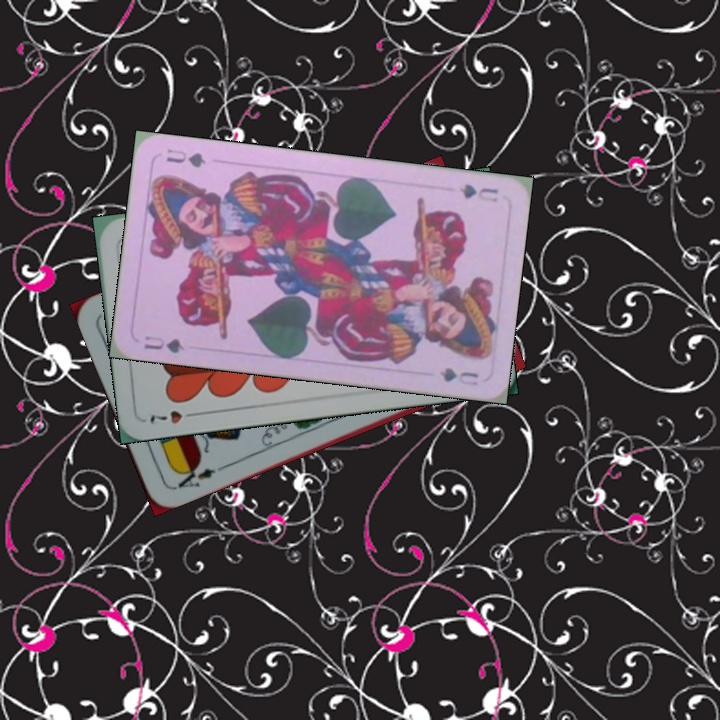EA: (170, 460, 226, 492)
GU: (455, 179, 500, 205), (140, 332, 187, 356)
H7: (146, 406, 202, 427)
